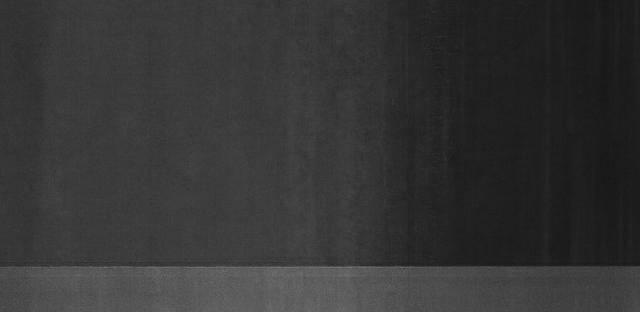welding_line: (0, 255, 640, 279)
